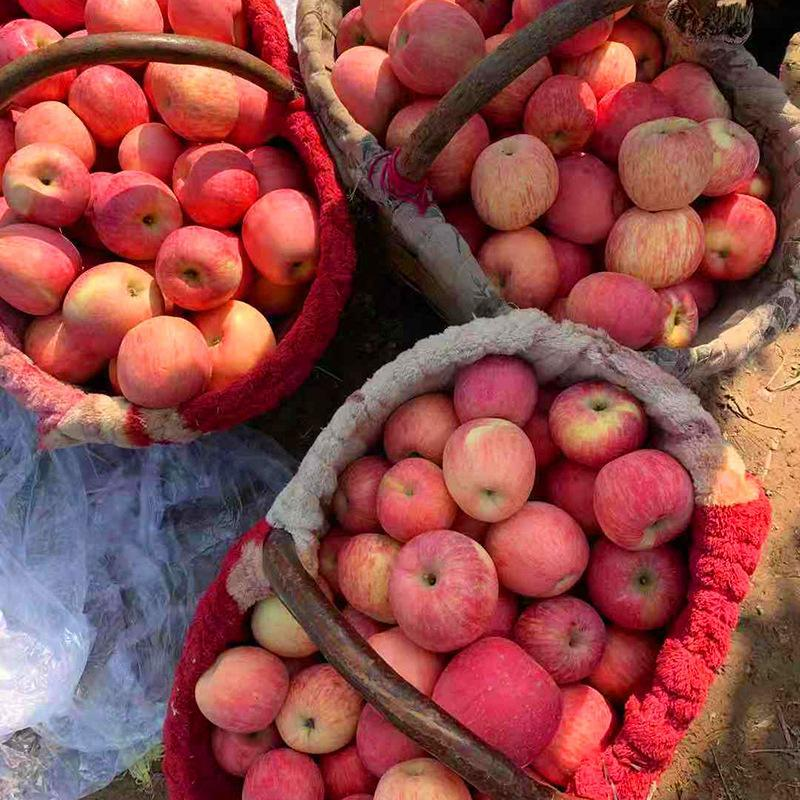apple: (429, 638, 564, 772), (390, 530, 497, 654), (589, 449, 693, 548), (486, 498, 588, 598), (61, 259, 167, 355), (442, 417, 535, 523), (586, 538, 687, 632), (112, 313, 211, 407), (386, 1, 485, 94), (468, 133, 562, 230), (547, 378, 646, 470), (89, 170, 184, 263), (512, 596, 607, 685), (620, 118, 712, 209), (191, 646, 288, 732), (605, 204, 706, 286), (545, 148, 627, 247), (566, 270, 665, 351), (152, 223, 243, 311), (274, 665, 362, 754), (244, 187, 322, 286), (1, 222, 82, 317), (193, 301, 276, 392), (3, 141, 88, 227), (171, 143, 258, 225), (376, 457, 460, 541), (476, 229, 560, 311), (70, 66, 151, 150), (151, 62, 240, 138), (329, 530, 403, 621), (699, 194, 778, 279), (523, 75, 602, 156), (451, 356, 538, 428), (1, 18, 73, 105), (11, 99, 97, 171), (385, 392, 460, 466), (697, 116, 761, 197), (239, 749, 326, 800), (373, 758, 473, 800), (333, 457, 387, 532), (210, 726, 285, 776), (333, 6, 386, 55)
